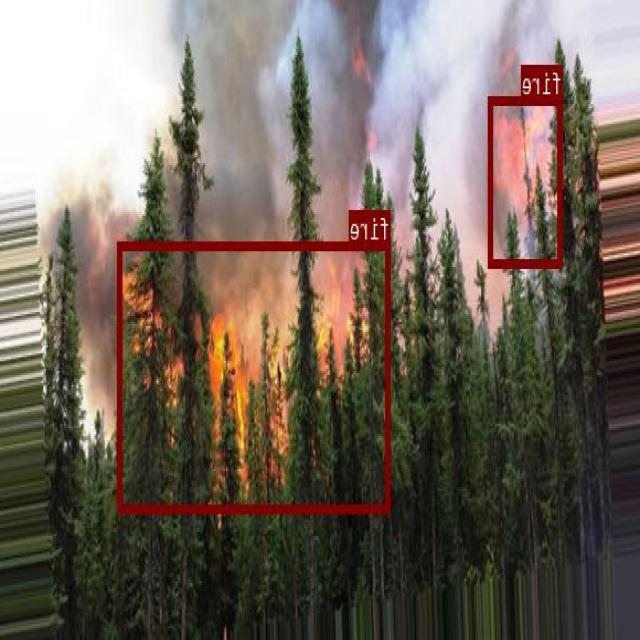fire: (118, 240, 392, 512), (489, 96, 563, 265)
